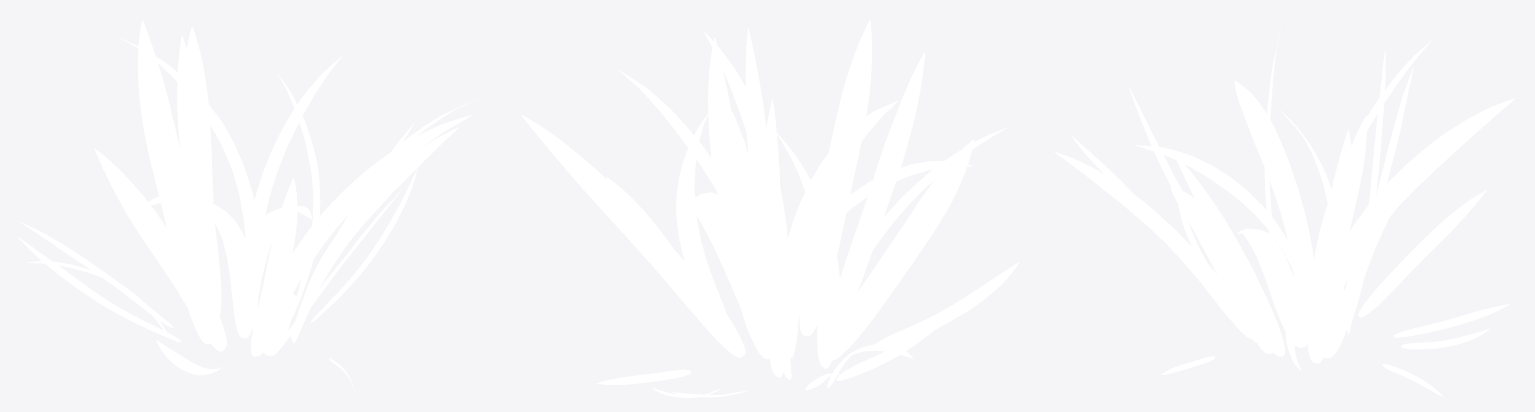
3 renders of one model, left to right at view 1: azimuth 30°, elevation 25°; view 2: azimuth 150°, elevation 25°; view 3: azimuth 270°, elevation 25°, orthographic. The views are drawn at different scales.
Parts seen in each view (by area): view 1: SM_SwampGrass_02_LOD0; view 2: SM_SwampGrass_02_LOD0; view 3: SM_SwampGrass_02_LOD0.
Boxes of the visible parts, left/top/right/bottom form: SM_SwampGrass_02_LOD0: left=18, top=20, right=480, bottom=393; SM_SwampGrass_02_LOD0: left=521, top=20, right=1019, bottom=397; SM_SwampGrass_02_LOD0: left=1055, top=26, right=1514, bottom=397.
Bounding box in the file's own units: 1.19 × 0.7586 × 1.06.
1 material, 1 textured.
